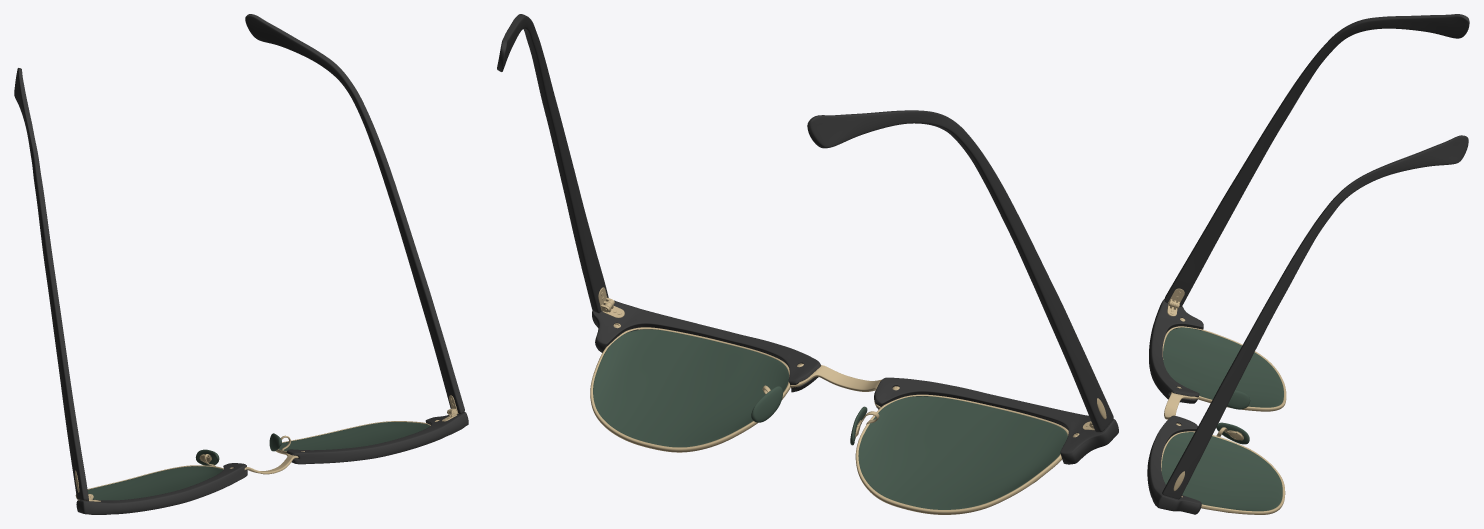
3 renders of one model, left to right at view 1: azimuth 30°, elevation 25°; view 2: azimuth 150°, elevation 25°; view 3: azimuth 270°, elevation 25°, orthographic. The views are drawn at different scales.
Parts seen in each view (by area): view 1: Object001_PLASTIC::PVC::Opaque Black_0; view 2: Object001_PLASTIC::PVC::Opaque Black_0; view 3: Object001_PLASTIC::PVC::Opaque Black_0.
Part boxes in pixels (box(x1,y1,x2,y2)): Object001_PLASTIC::PVC::Opaque Black_0: box(14, 14, 468, 514); Object001_PLASTIC::PVC::Opaque Black_0: box(497, 14, 1118, 514); Object001_PLASTIC::PVC::Opaque Black_0: box(1147, 14, 1469, 514).
Size of the model in its own units: 148 by 133 by 103.
